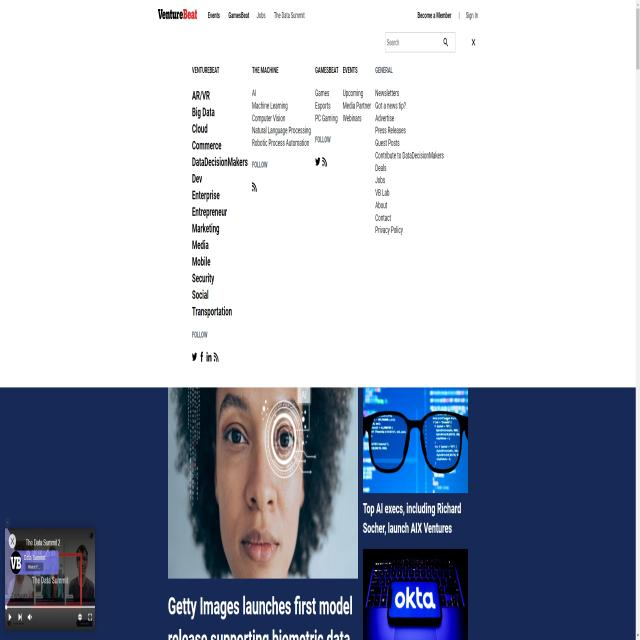menu-bar: (414, 8, 481, 28)
search: (382, 30, 459, 56)
tab-bar: (190, 56, 398, 81)
